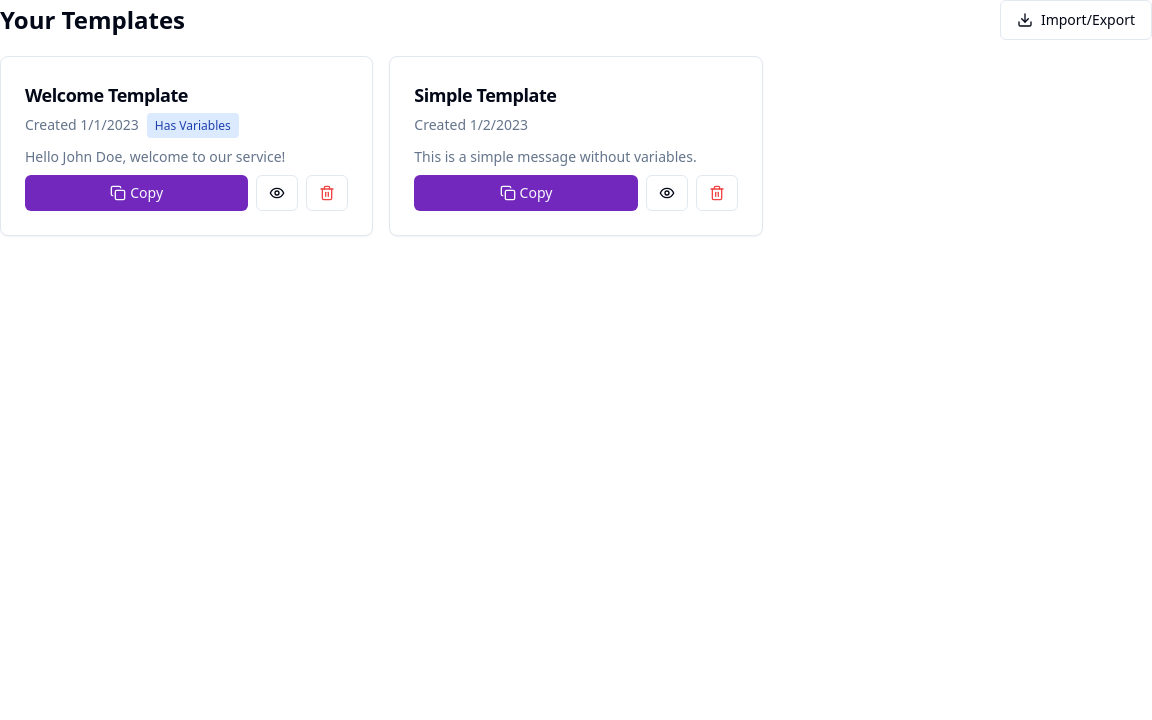
Scenario: TemplateList › should show preview dialog when eye button is clicked
The width and height of the screenshot is (1152, 720).
Click the button named "preview template" below "Hello John Doe, welcome to our service!". click: (277, 193)
box: [256,175,298,211]
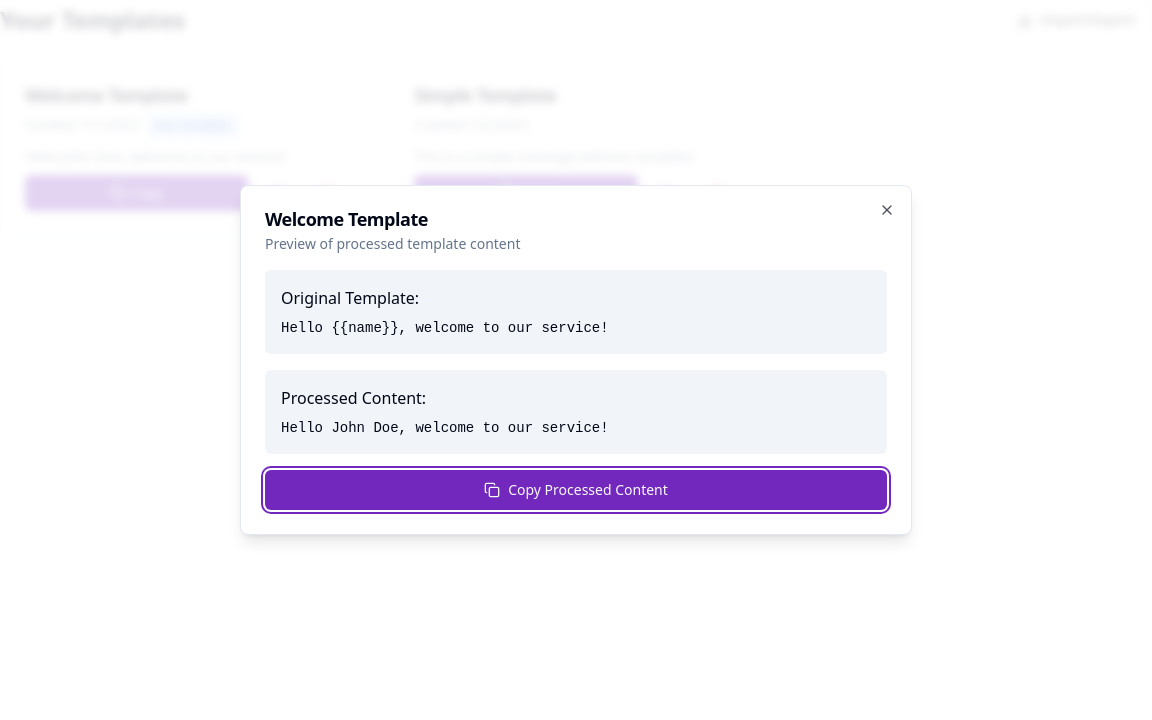
Expected: the dialog is shown, [240,185,912,535]
Expected: the text "Preview of processed template content" is shown, [265,234,520,253]
